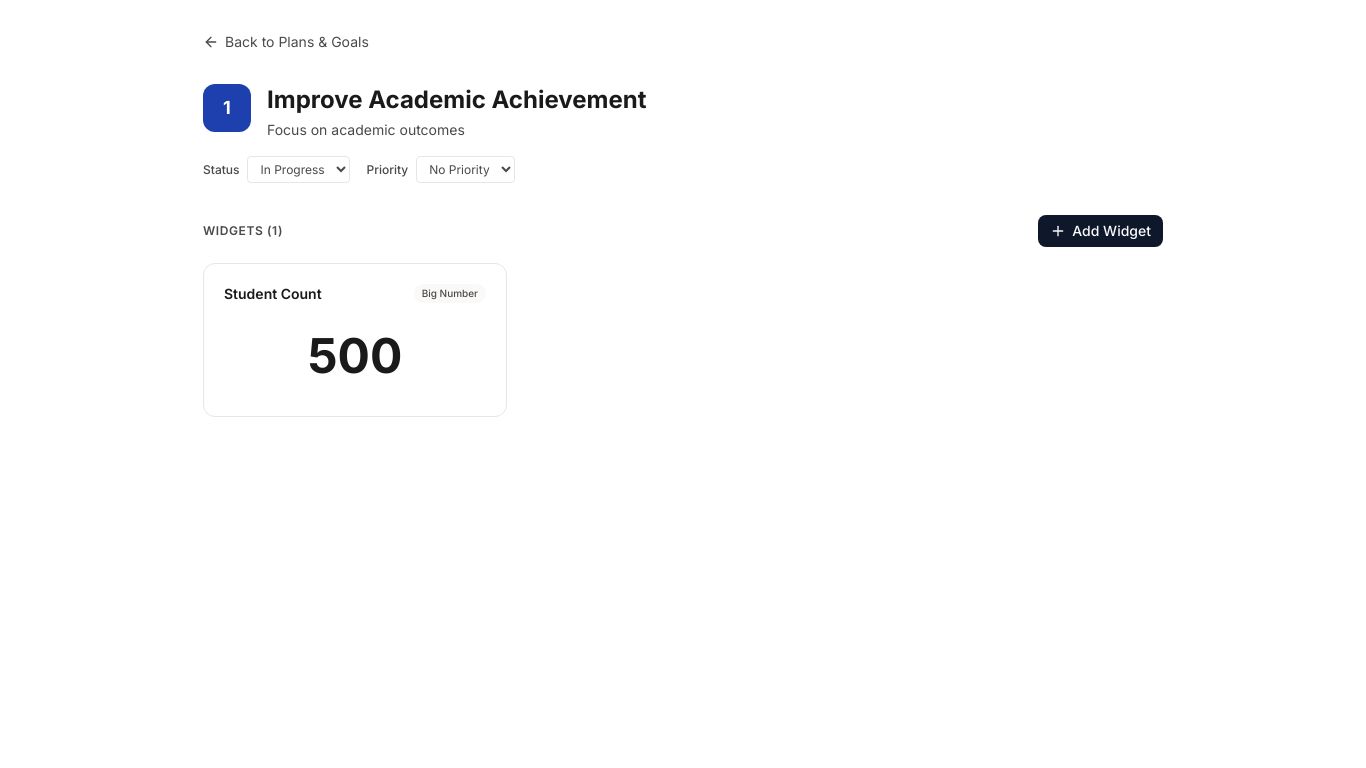
Test: V2GoalDetail › opens catalog when Add Widget clicked
Click the button "Add Widget" at point(1101, 231), box [1038,215,1163,247]
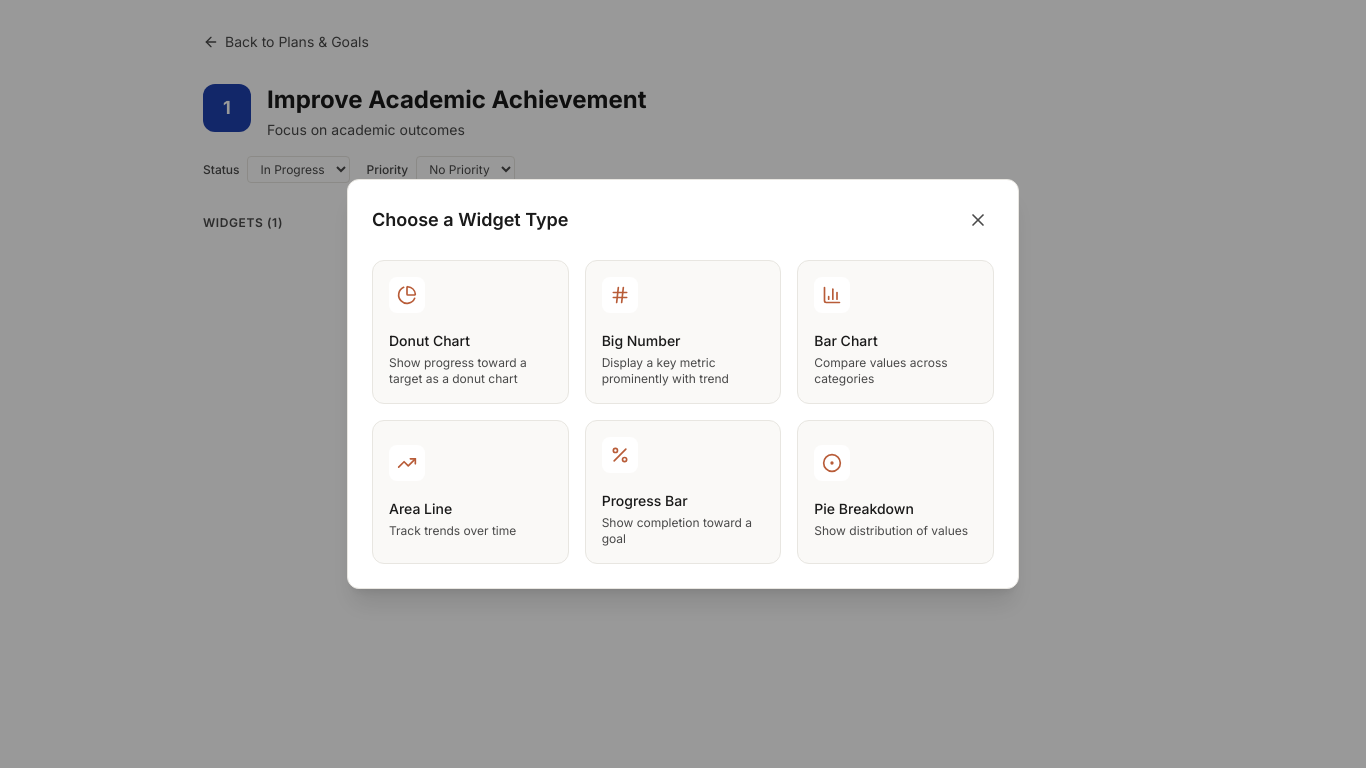
expect the heading "Choose a Widget Type" is shown: met, box [372,206,568,234]
